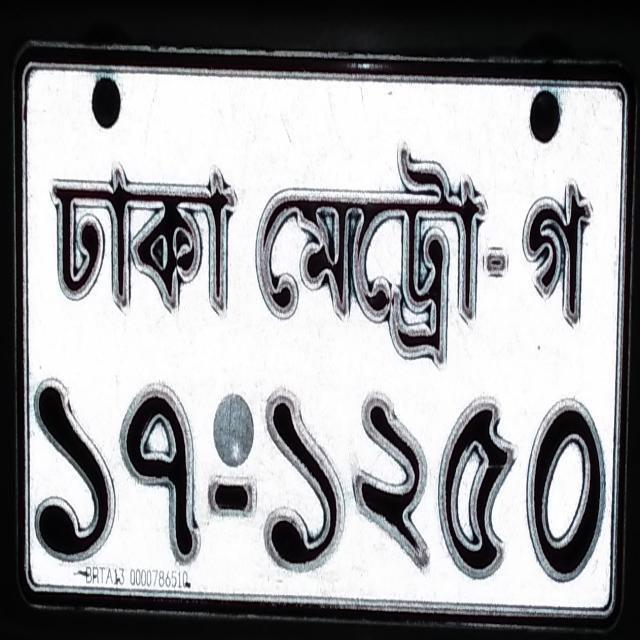cng: (254, 142, 488, 366), (50, 162, 237, 315)
numberplate: (9, 38, 634, 629)
